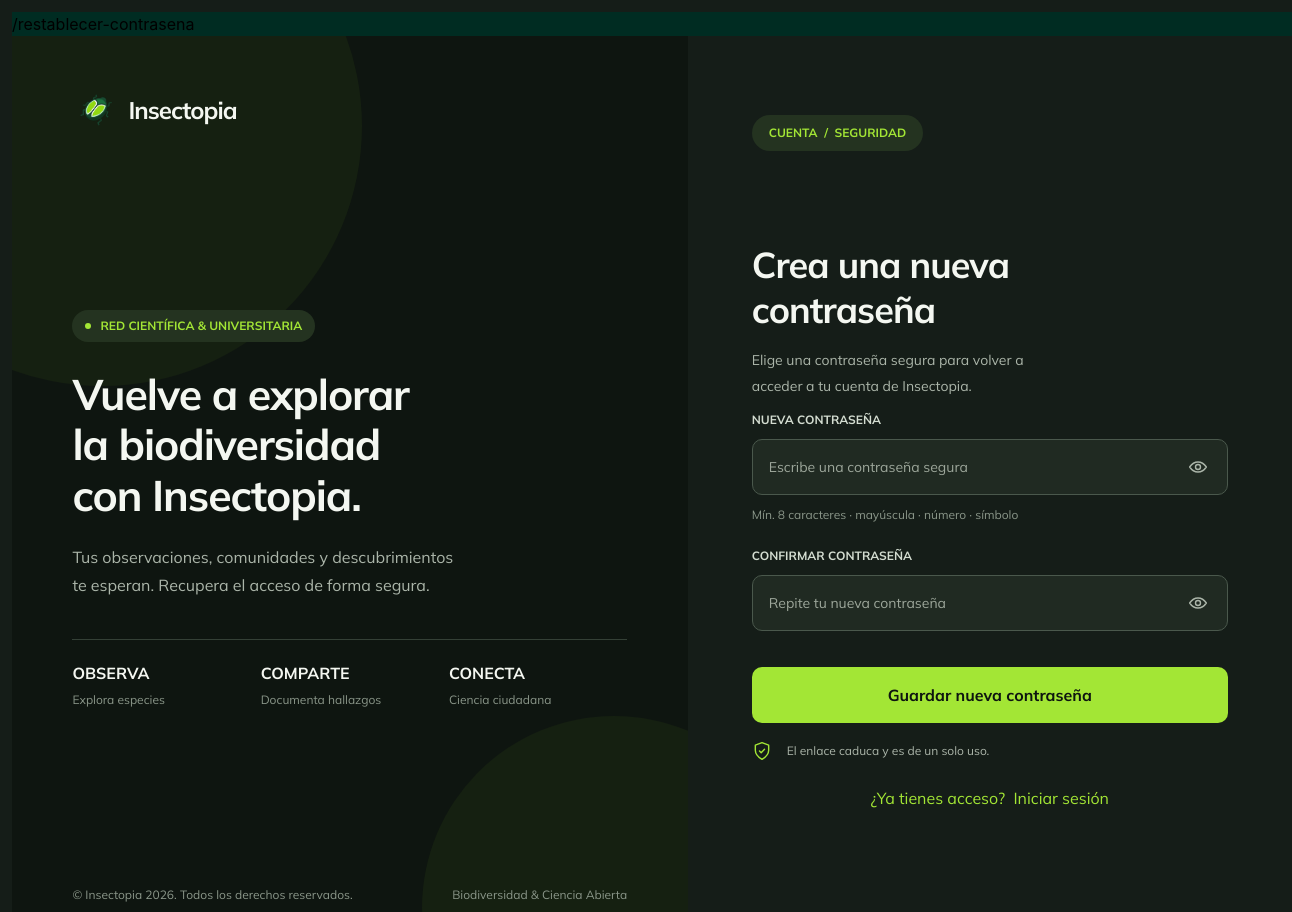
it: recuperación de contraseña › no confunde errores técnicos con tokens vencidos
Type "SeguraClave1!" into the password field labelled "NUEVA CONTRASEÑA" at (990, 467), box [752,439,1228,495]
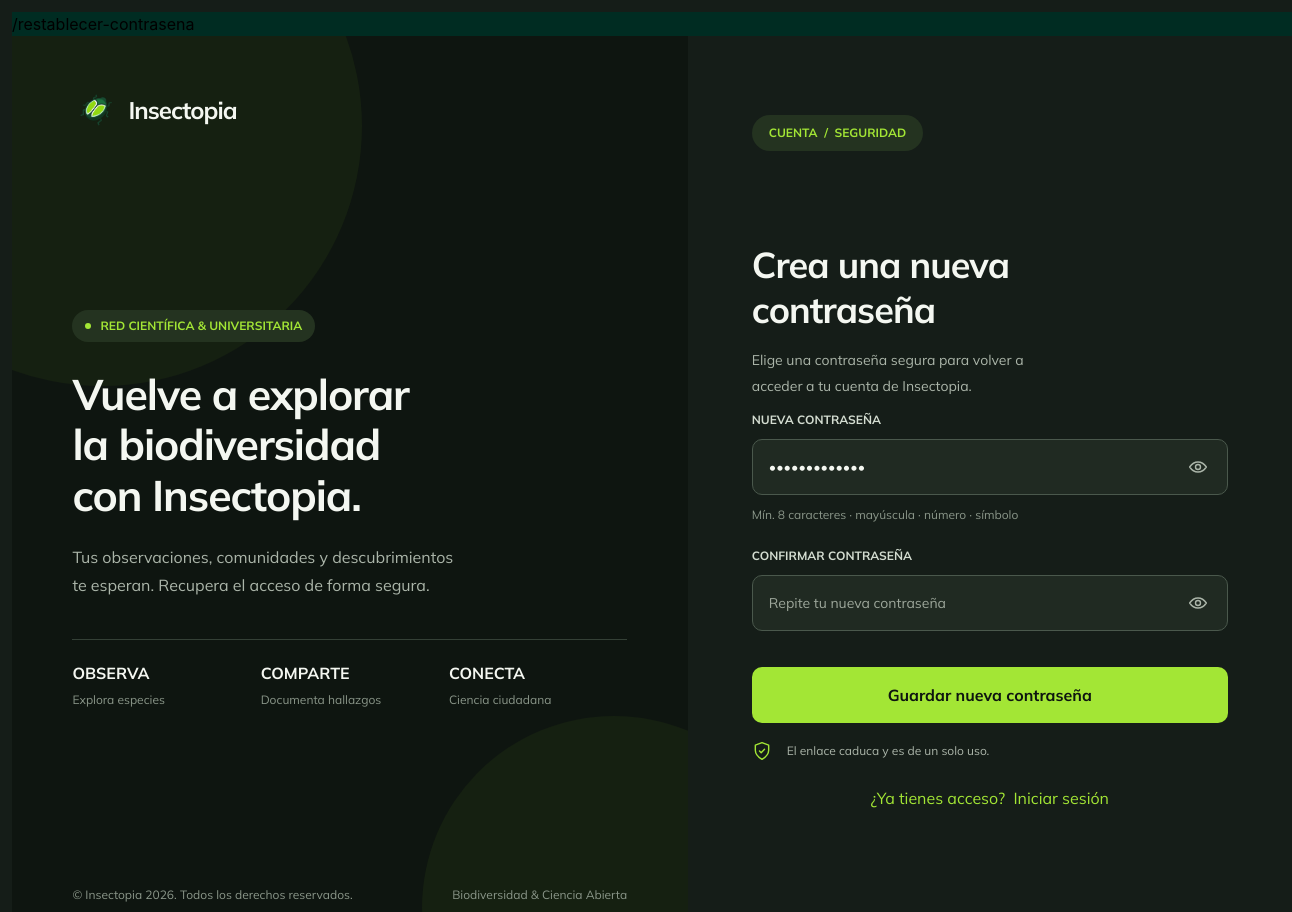
Type "SeguraClave1!" into the password field labelled "CONFIRMAR CONTRASEÑA" at (990, 603), box [752,575,1228,631]
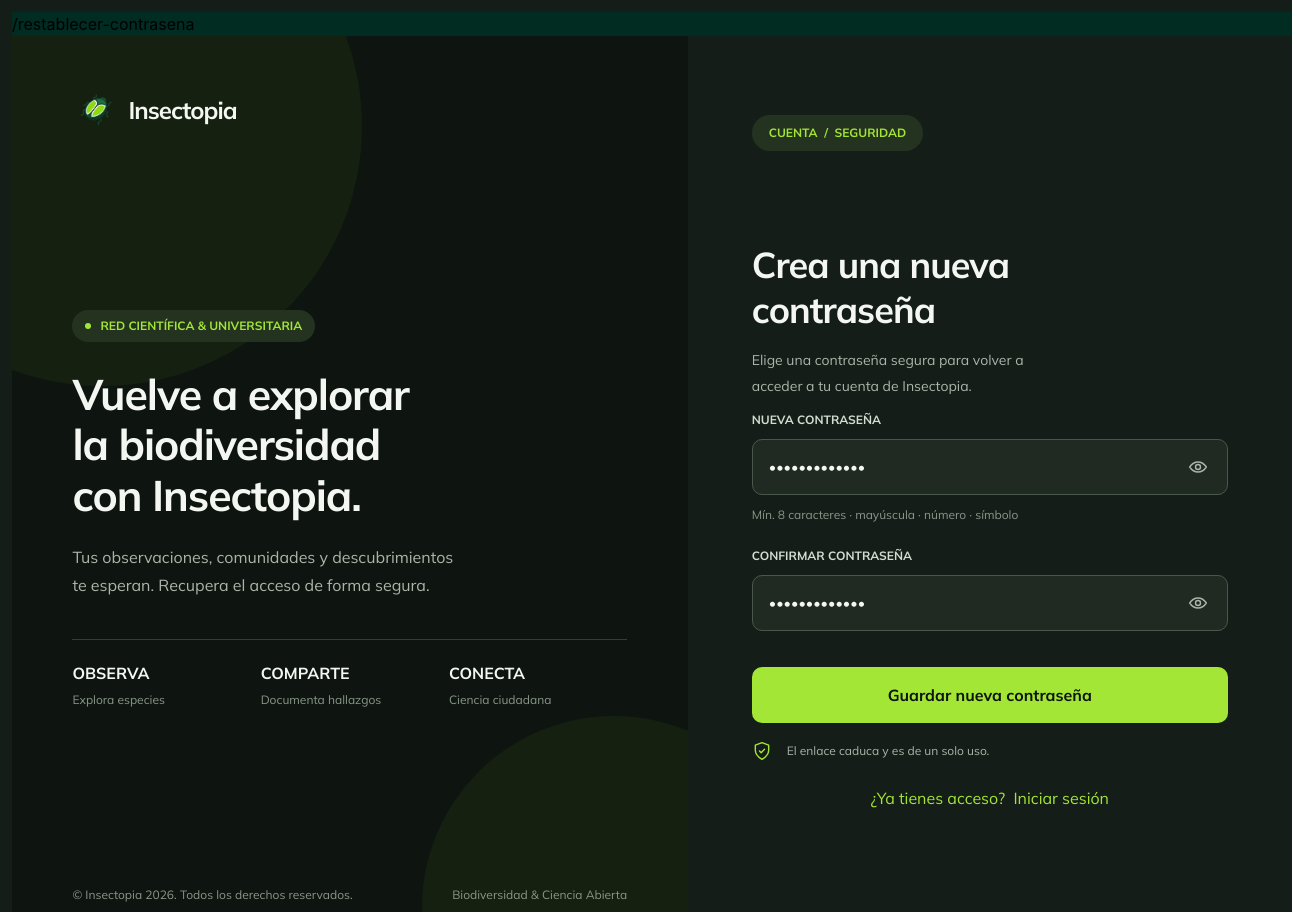
Click the button "Guardar nueva contraseña" at (990, 695), box [752,667,1228,723]
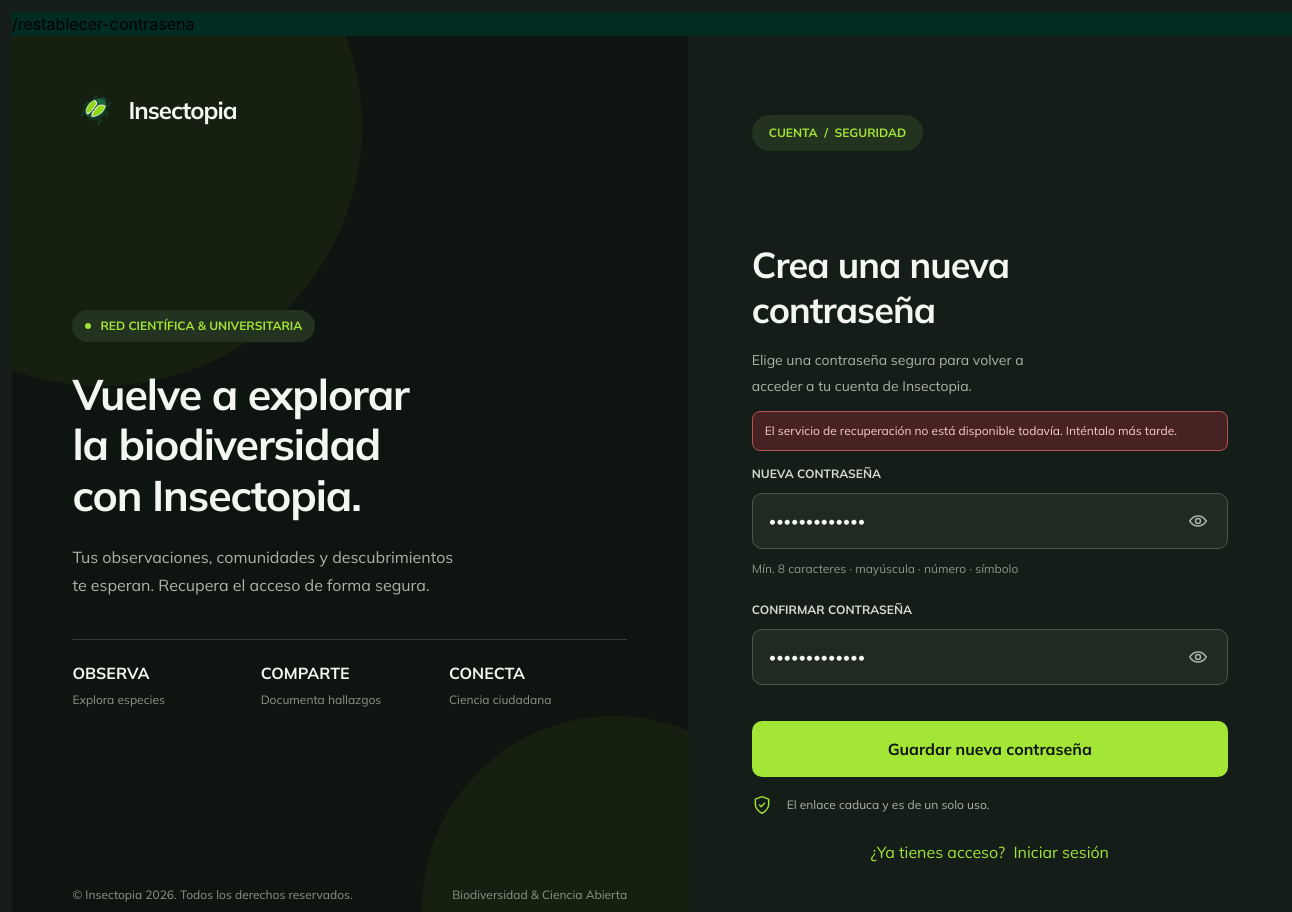
Check: the message "El servicio de recuperación no está disponible todavía. Inténtalo más tarde." is shown, box [752,411,1228,451]
